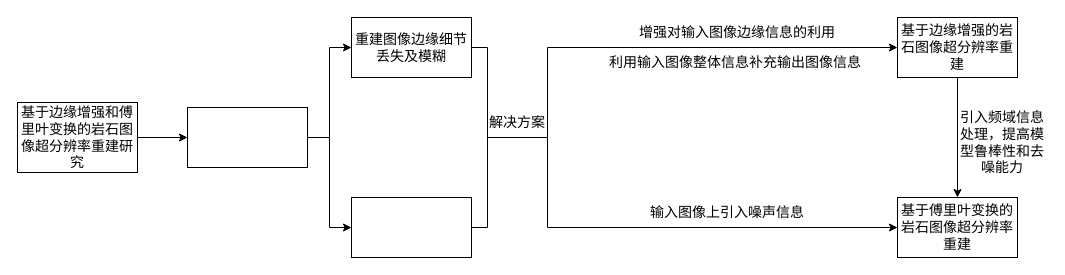
Image size: 1065x275. Some labels were removed from this diagram. Each missing label, with the centre of its shape:
忽略噪声对图像重建质量影响: pixel 411 227
问题探究: pixel 247 137
